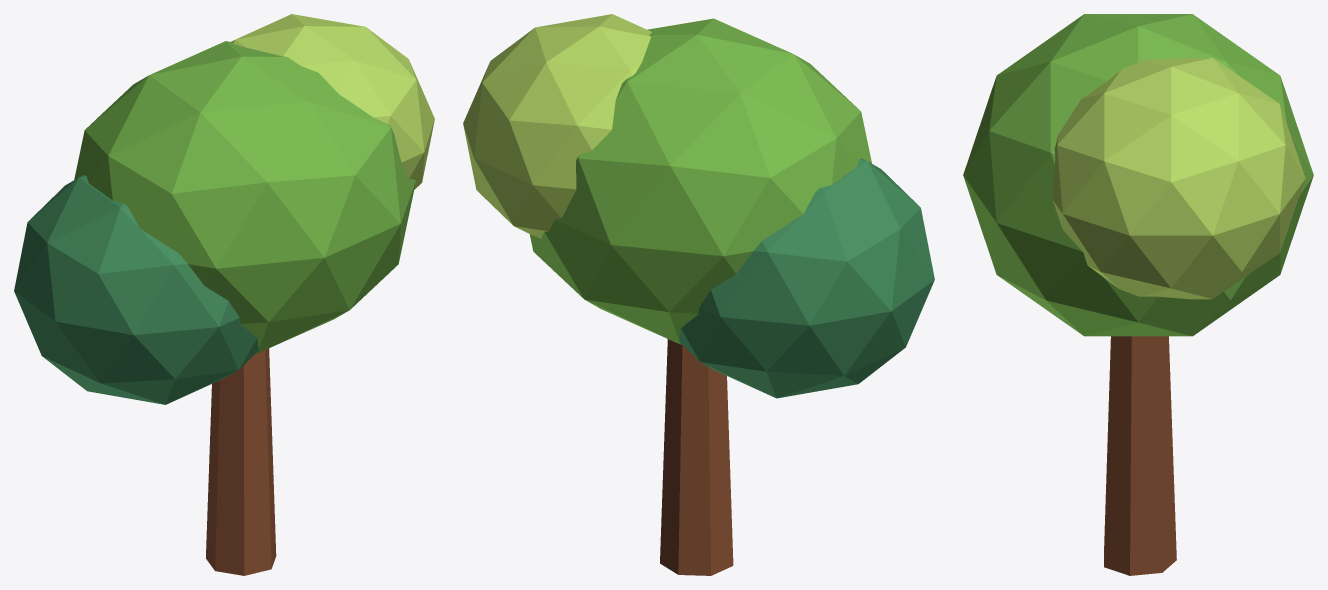
The model's file is oak.glb.
3 renders of one model, left to right at view 1: azimuth 30°, elevation 25°; view 2: azimuth 150°, elevation 25°; view 3: azimuth 270°, elevation 25°, orthographic. The views are drawn at different scales.
Visible parts, largest first — view 1: Crown, Crown.001, Trunk, Crown.002; view 2: Crown, Crown.001, Crown.002, Trunk; view 3: Crown.002, Crown, Trunk.
Part boxes in pixels (bbox=[...]): Crown: bbox=[74, 41, 415, 353]; Crown.001: bbox=[14, 175, 258, 404]; Trunk: bbox=[206, 348, 276, 575]; Crown.002: bbox=[231, 14, 434, 189]; Crown: bbox=[529, 18, 871, 344]; Crown.001: bbox=[679, 158, 934, 398]; Crown.002: bbox=[463, 14, 651, 238]; Trunk: bbox=[660, 339, 733, 575]; Crown.002: bbox=[1052, 58, 1305, 299]; Crown: bbox=[963, 14, 1313, 336]; Trunk: bbox=[1104, 336, 1176, 575].
Bounding box in the file's own units: 1.77 × 2.15 × 1.28.
